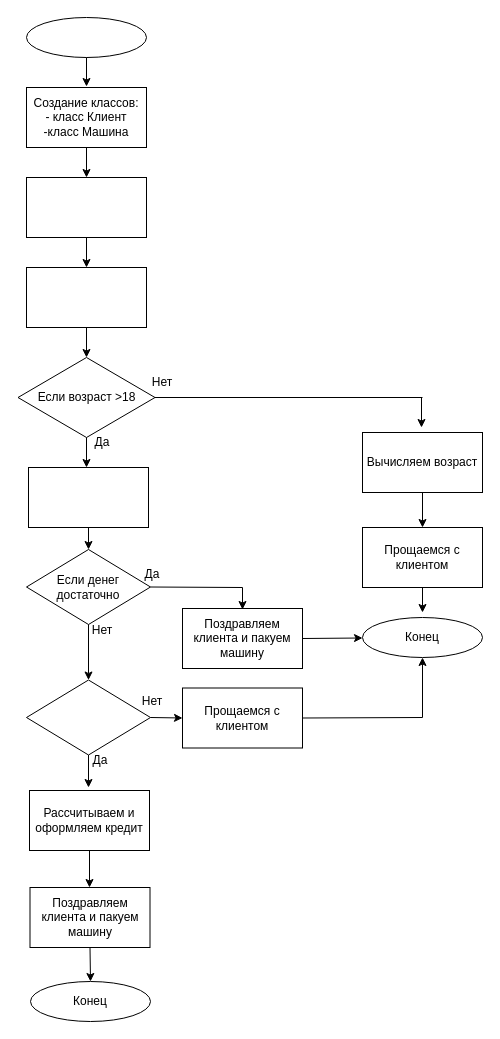
The diagram is 500 pixels wide and 1039 high, and some of its shapes have lost their labels. Each missing label, with the centre of its shape:
Вводим возраст: the point at 86,297
Вводим сумму денег: the point at 88,497
Инициализация классов: the point at 86,207
Начало: the point at 86,37
Оформление кредита?: the point at 88,717
